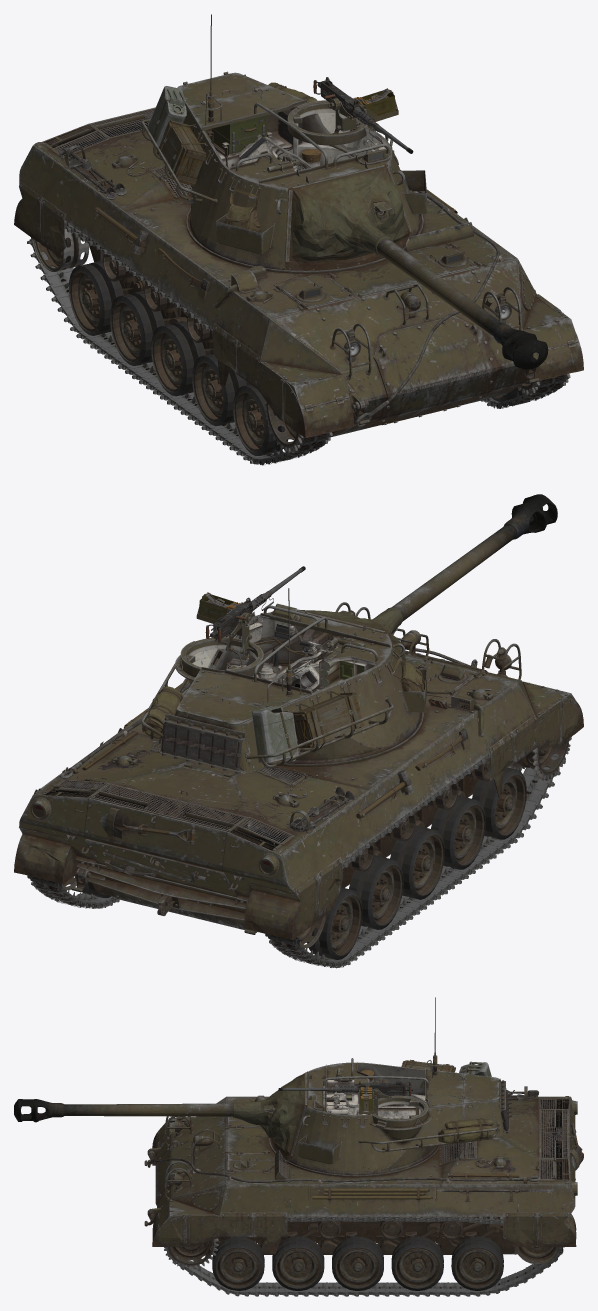
The model's file is M18_GMC.obj.
3 views of the same model, one above another, from view 1: azimuth 30°, elevation 25°; view 2: azimuth 150°, elevation 25°; view 3: azimuth 270°, elevation 25° (orthographic). The views are drawn at different scales.
Visible parts, largest first — view 1: vehicle#x_root_99, vehicle#bone_turret_41, vehicle#ex_decor_07_101, vehicle#track_r_37, vehicle#gun_barrel_50, vehicle#wheel_r_04_56, vehicle#wheel_r_03_58, vehicle#wheel_r_05_61, vehicle#wheel_r_02_60, vehicle#bone_mg_aa_v_01_48, vehicle#wheel_r_01_63, vehicle#ex_decor_r_01_7 (+25 smaller); view 2: vehicle#x_root_99, vehicle#bone_turret_41, vehicle#track_r_37, vehicle#gun_barrel_50, vehicle#ex_decor_r_10_3, vehicle#ex_armor_01_46, vehicle#hatch_06_79, vehicle#wheel_r_04_56, vehicle#wheel_r_03_58, vehicle#wheel_r_02_60, vehicle#ex_decor_03_18, vehicle#ex_decor_l_10_26 (+25 smaller); view 3: vehicle#x_root_99, vehicle#bone_turret_41, vehicle#track_l_38, vehicle#gun_barrel_50, vehicle#ex_decor_07_101, vehicle#wheel_l_04_14, vehicle#wheel_l_05_39, vehicle#wheel_l_03_12, vehicle#wheel_l_02_10, vehicle#wheel_l_01_0, vehicle#ex_decor_l_04_5, vehicle#bone_mg_aa_v_01_48 (+25 smaller).
Part boxes in pixels (x1,y1,x2,y2): vehicle#x_root_99: (19,84,536,437); vehicle#bone_turret_41: (141,71,426,270); vehicle#ex_decor_07_101: (284,164,412,270); vehicle#track_r_37: (27,220,330,465); vehicle#gun_barrel_50: (293,165,548,369); vehicle#wheel_r_04_56: (110,291,164,365); vehicle#wheel_r_03_58: (151,321,205,396); vehicle#wheel_r_05_61: (69,261,123,335); vehicle#wheel_r_02_60: (192,353,246,426); vehicle#bone_mg_aa_v_01_48: (313,77,413,153); vehicle#wheel_r_01_63: (233,384,288,455); vehicle#ex_decor_r_01_7: (282,379,354,438); vehicle#x_root_99: (19,648,536,932); vehicle#bone_turret_41: (141,603,426,772); vehicle#track_r_37: (265,736,571,968); vehicle#gun_barrel_50: (284,494,557,691); vehicle#ex_decor_r_10_3: (243,874,318,940); vehicle#ex_armor_01_46: (160,713,245,773); vehicle#hatch_06_79: (124,763,242,813); vehicle#wheel_r_04_56: (349,855,403,929); vehicle#wheel_r_03_58: (390,825,444,899); vehicle#wheel_r_02_60: (431,795,485,869); vehicle#ex_decor_03_18: (89,783,248,831); vehicle#ex_decor_l_10_26: (14,826,79,884); vehicle#x_root_99: (144,1095,579,1254); vehicle#bone_turret_41: (274,1052,503,1174); vehicle#track_l_38: (164,1216,563,1296); vehicle#gun_barrel_50: (14,1094,367,1122); vehicle#ex_decor_07_101: (232,1071,308,1161); vehicle#wheel_l_04_14: (391,1236,443,1290); vehicle#wheel_l_05_39: (451,1236,503,1290); vehicle#wheel_l_03_12: (332,1236,383,1290); vehicle#wheel_l_02_10: (272,1236,324,1290); vehicle#wheel_l_01_0: (212,1237,264,1290); vehicle#ex_decor_l_04_5: (185,1212,252,1246); vehicle#bone_mg_aa_v_01_48: (278,1079,412,1114).
Bounding box in the file's own units: 2.92 × 3.26 × 7.06.
15 materials, 15 textured.
